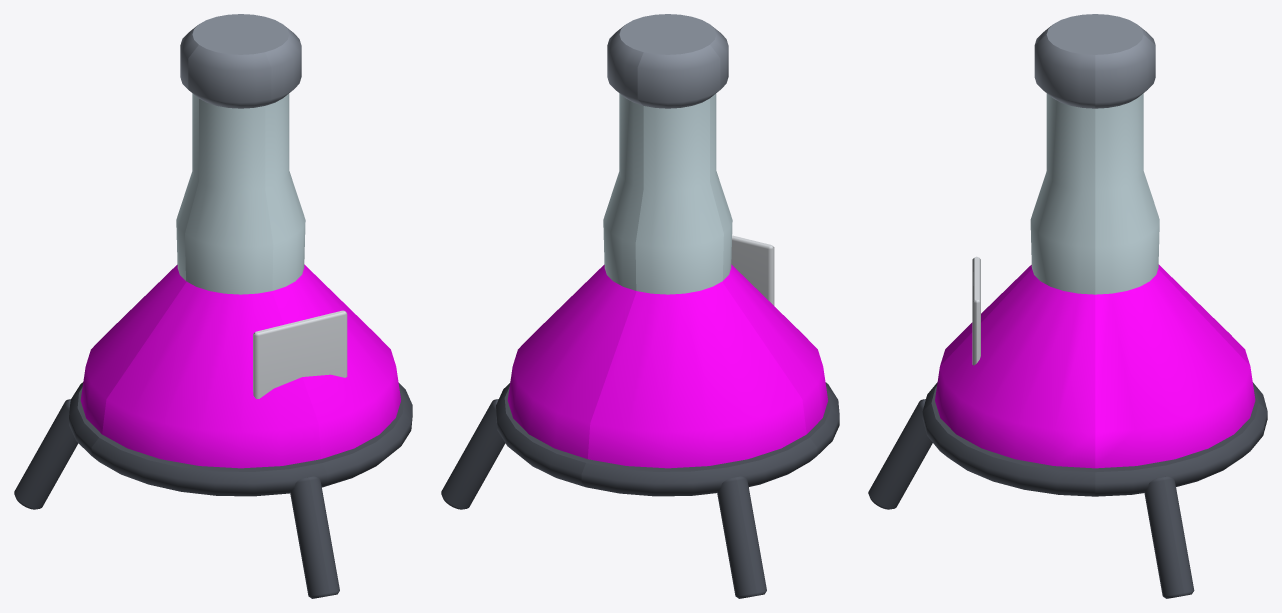
Rendered from objet_science_2.glb.
The picture shows the model from 3 angles, left to right: view 1: azimuth 30°, elevation 25°; view 2: azimuth 150°, elevation 25°; view 3: azimuth 270°, elevation 25°; orthographic projection.
Visible parts, largest first — view 1: science_teinte.012, science_verre_flacon.010, science_metal_sci_sombre.010, science_metal_sci.006, science_blanc.004; view 2: science_teinte.012, science_verre_flacon.010, science_metal_sci_sombre.010, science_metal_sci.006, science_blanc.004; view 3: science_teinte.012, science_verre_flacon.010, science_metal_sci_sombre.010, science_metal_sci.006, science_blanc.004.
Boxes of the visible parts, <box> form: science_teinte.012: <box>80,264,400,468</box>; science_verre_flacon.010: <box>176,93,305,294</box>; science_metal_sci_sombre.010: <box>14,382,412,598</box>; science_metal_sci.006: <box>180,14,301,108</box>; science_blanc.004: <box>253,310,347,398</box>; science_teinte.012: <box>507,264,827,468</box>; science_verre_flacon.010: <box>603,93,732,294</box>; science_metal_sci_sombre.010: <box>441,382,839,598</box>; science_metal_sci.006: <box>607,14,728,108</box>; science_blanc.004: <box>731,235,774,305</box>; science_teinte.012: <box>935,264,1255,468</box>; science_verre_flacon.010: <box>1030,93,1159,294</box>; science_metal_sci_sombre.010: <box>868,382,1267,598</box>; science_metal_sci.006: <box>1034,14,1155,108</box>; science_blanc.004: <box>972,256,980,365</box>.
Size of the model in its own units: 0.1845 by 0.2477 by 0.1852.
